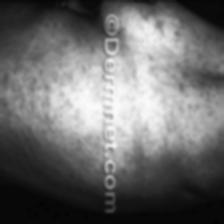Non-Cancerous Skin Condition: (118, 32, 224, 178), (0, 46, 96, 152)
